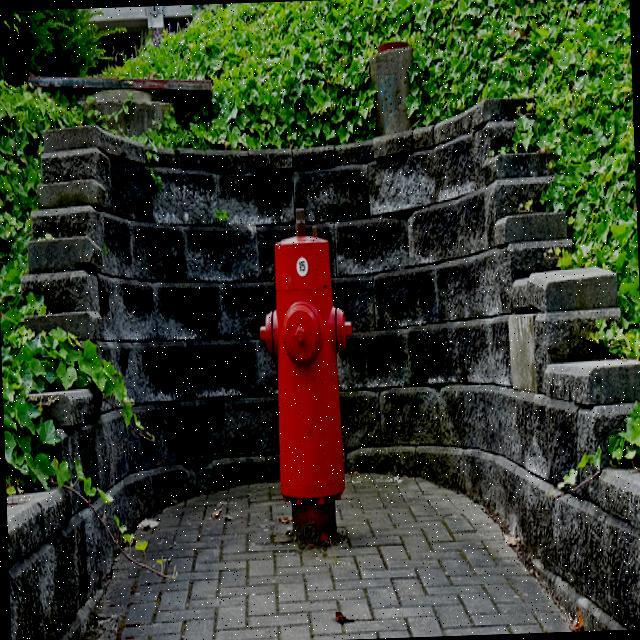fire_hydrant: (254, 206, 359, 547)
